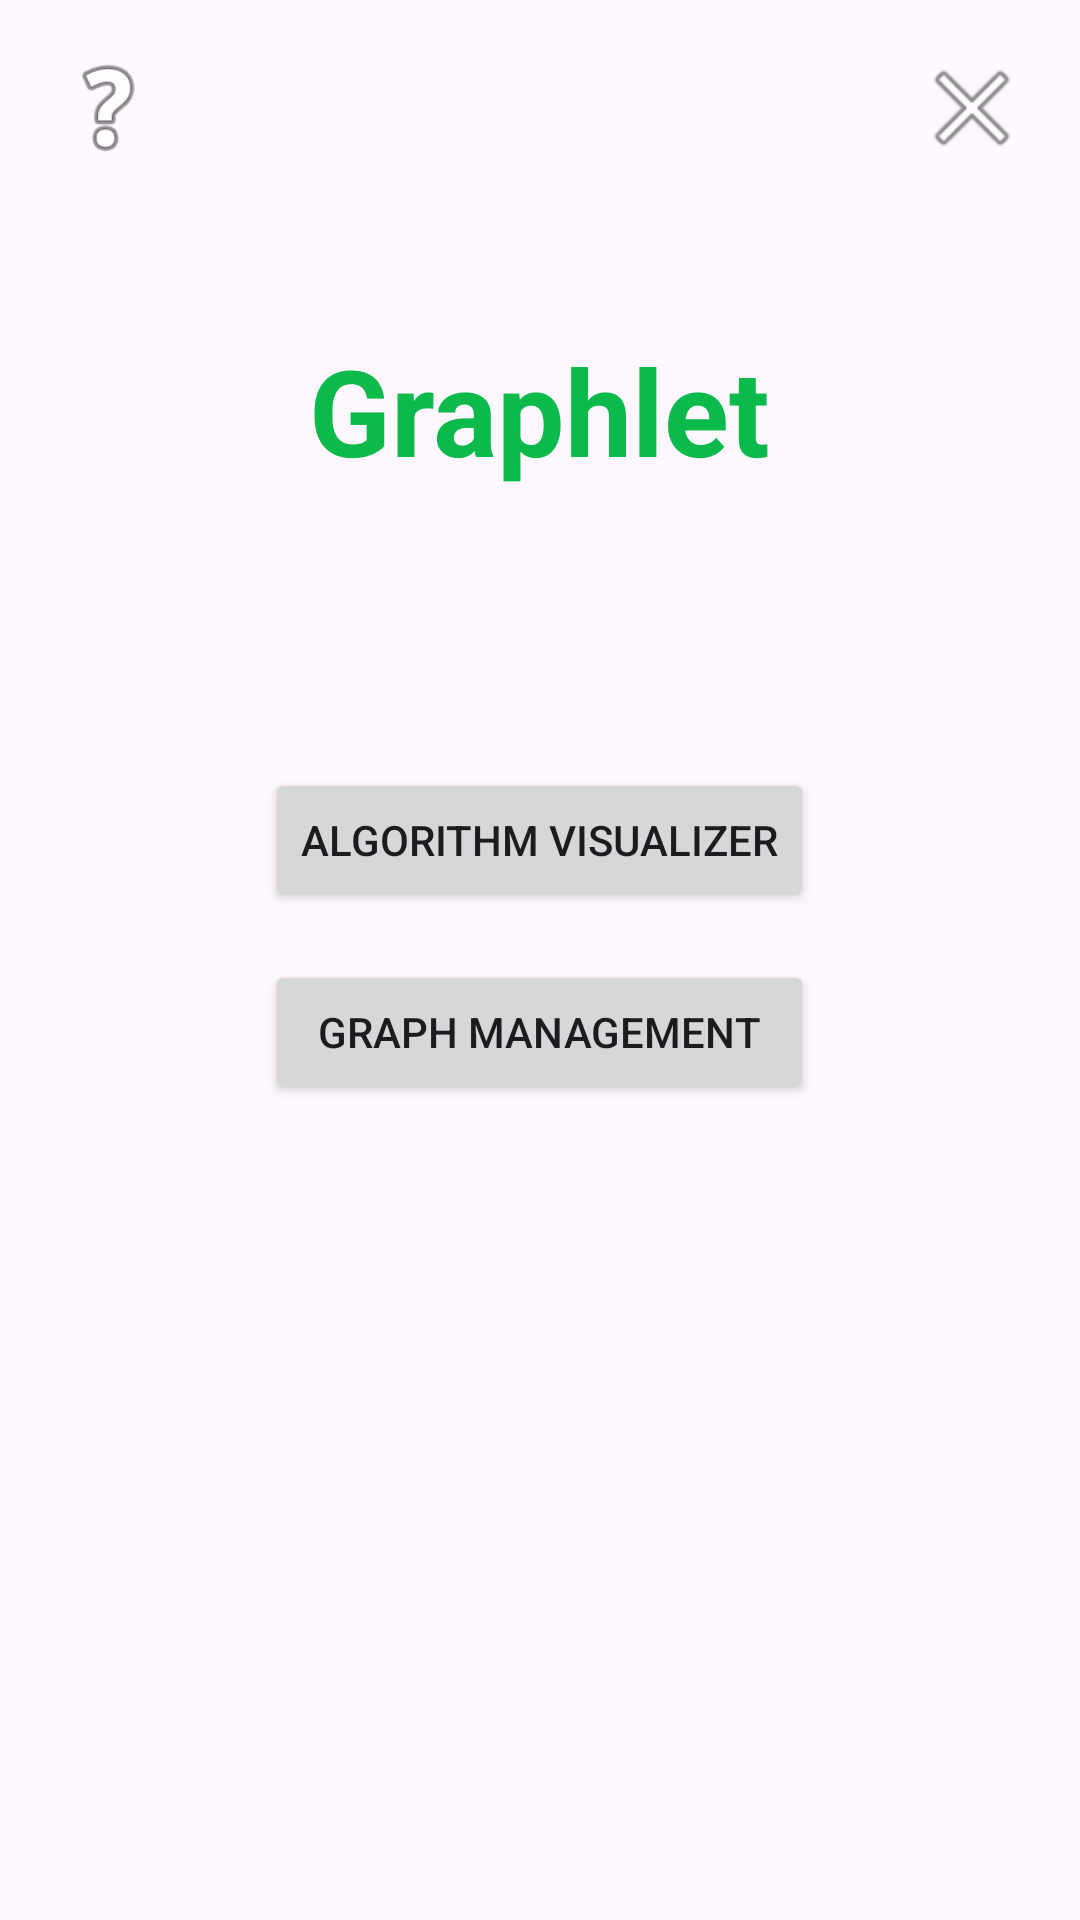

Icon bounding boxes for this 1080×1920 phone screenshot, format (x1, y1, x2, y2):
Close App: (934, 70, 1010, 146)
Help: (82, 65, 135, 151)
